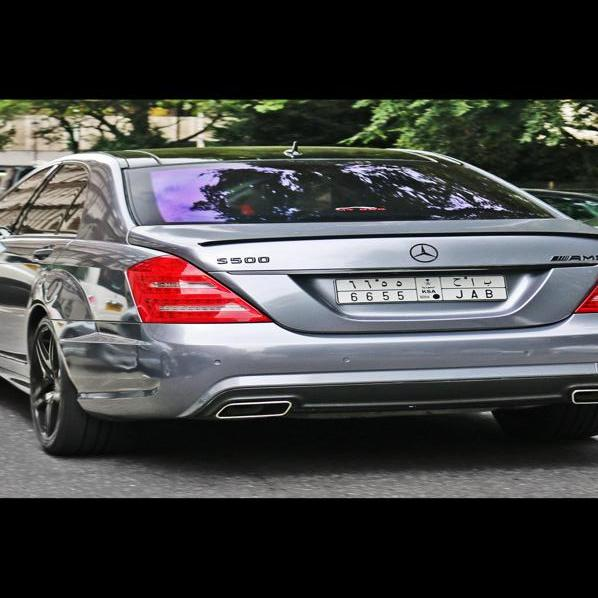numberplate: (333, 272, 511, 305)
